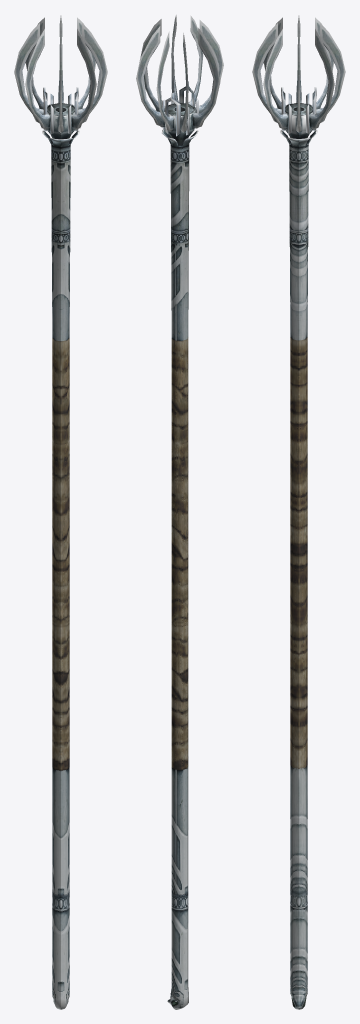
Rendered from staff_mage.FBX.
3 views of the same model, side by side, from view 1: azimuth 90°, elevation 25°; view 2: azimuth 150°, elevation 25°; view 3: azimuth 270°, elevation 25° (orthographic).
Visible parts, largest first — view 1: staff_mage; view 2: staff_mage; view 3: staff_mage.
Part boxes in pixels (x1=…): staff_mage: x1=14, y1=15, x2=107, y2=1009; staff_mage: x1=136, y1=15, x2=223, y2=1009; staff_mage: x1=252, y1=15, x2=345, y2=1009.
Size of what is drawn, in the model's own units: 11.64 by 136 by 11.64.
